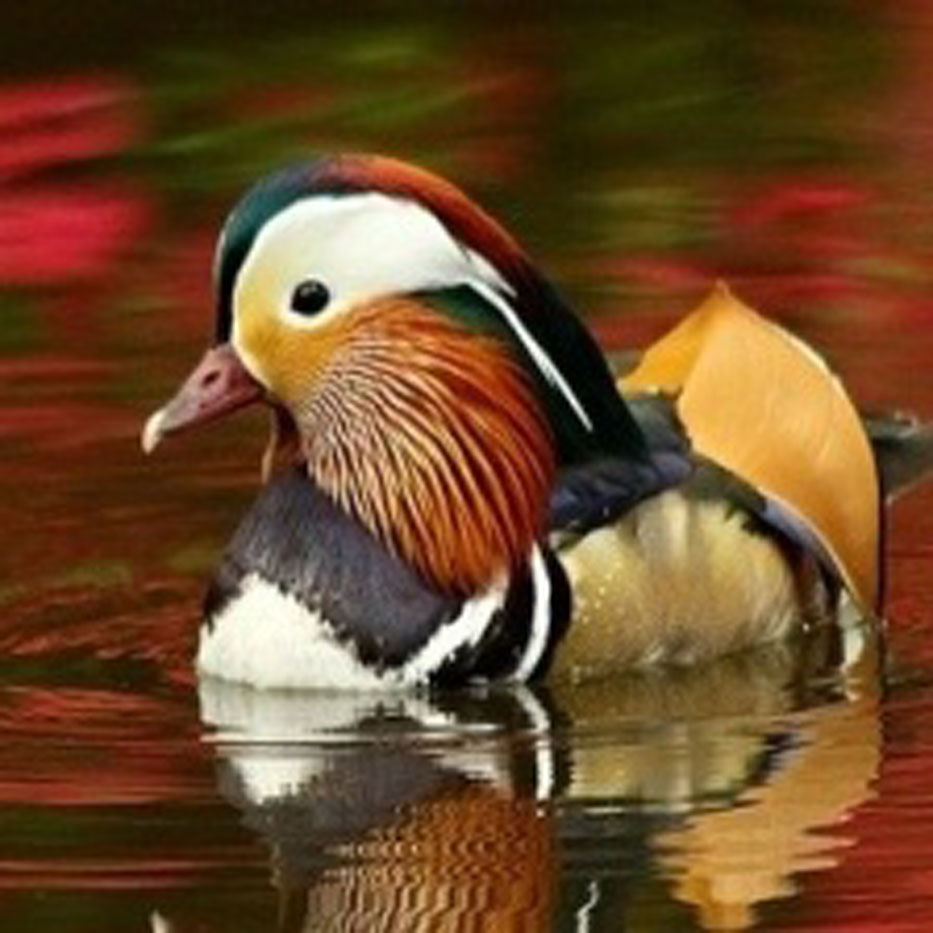Mencari Makan di Lumpur: (124, 345, 274, 468)
